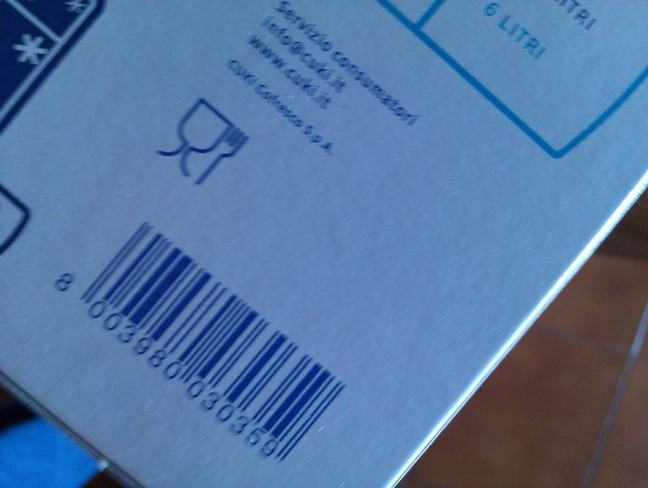detection: (32, 191, 365, 474)
